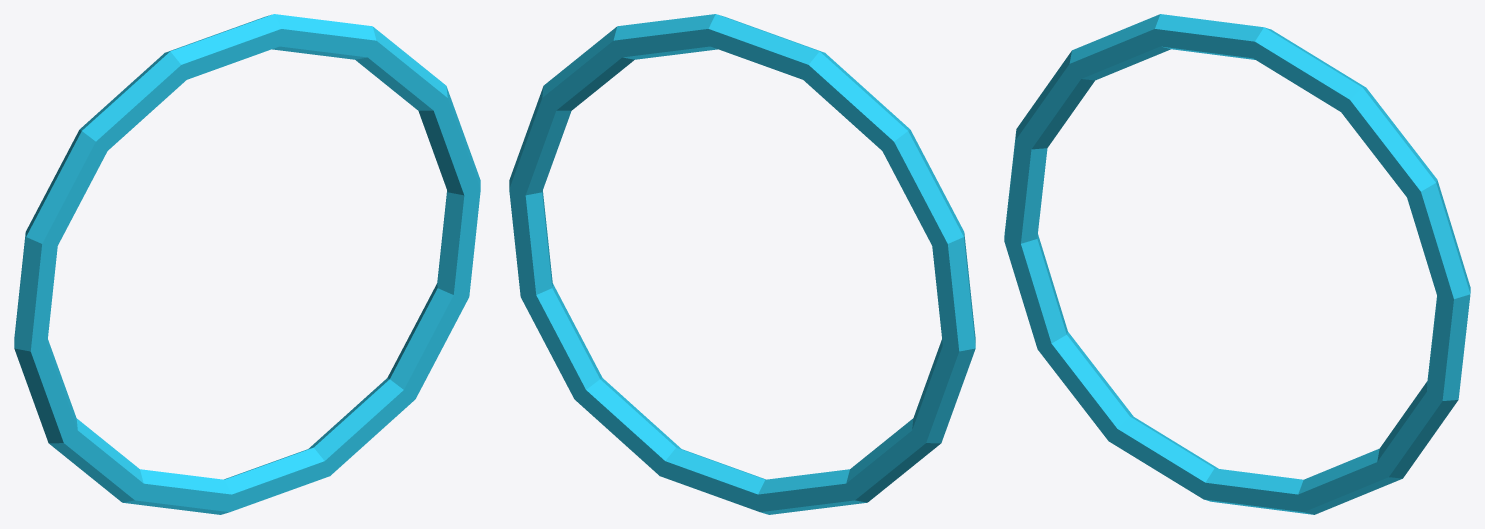
The model's file is Fountain_torus.fbx.
3 views of the same model, side by side, from view 1: azimuth 30°, elevation 25°; view 2: azimuth 150°, elevation 25°; view 3: azimuth 330°, elevation 25° (orthographic).
Visible parts, largest first — view 1: Torus1; view 2: Torus1; view 3: Torus1.
Boxes of the visible parts, x1,y1,x2,y2 form: Torus1: (14, 14, 480, 514); Torus1: (509, 14, 975, 514); Torus1: (1004, 14, 1470, 514).
Size of the model in its own units: 318 by 318 by 19.53.
